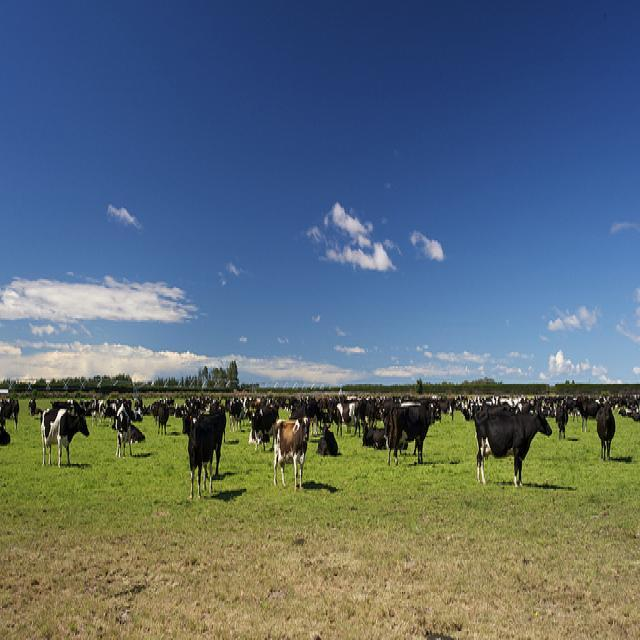cow: (0, 382, 638, 455), (471, 400, 552, 487), (180, 409, 218, 499), (387, 400, 439, 464), (39, 404, 87, 468), (271, 414, 312, 487), (207, 398, 225, 473), (250, 404, 276, 450), (595, 398, 614, 459), (573, 396, 602, 432), (115, 398, 130, 457), (314, 422, 337, 454), (554, 398, 564, 436), (511, 400, 521, 411)
